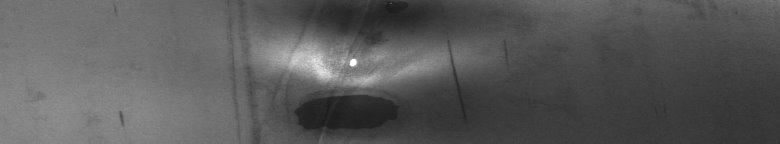ke: (229, 4, 508, 136)
